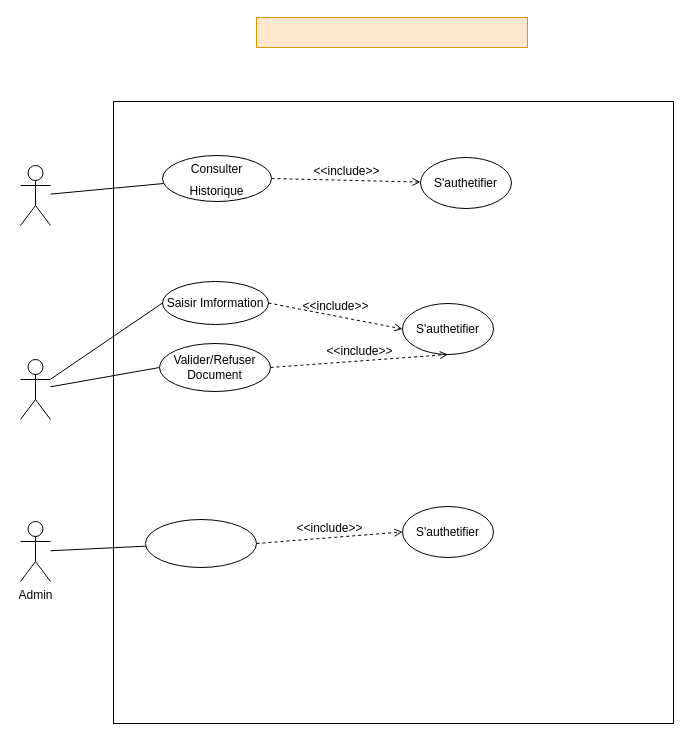
This 691x741 diagram has some shape labels left out. Here are the shapes that lost their labels. From the top down, the centre of each, then its label:
At point 392,32: "Use Case Diagram".
At point 35,195: "Patient".
At point 35,389: "Agent".
At point 200,543: "Gérer Agent".
